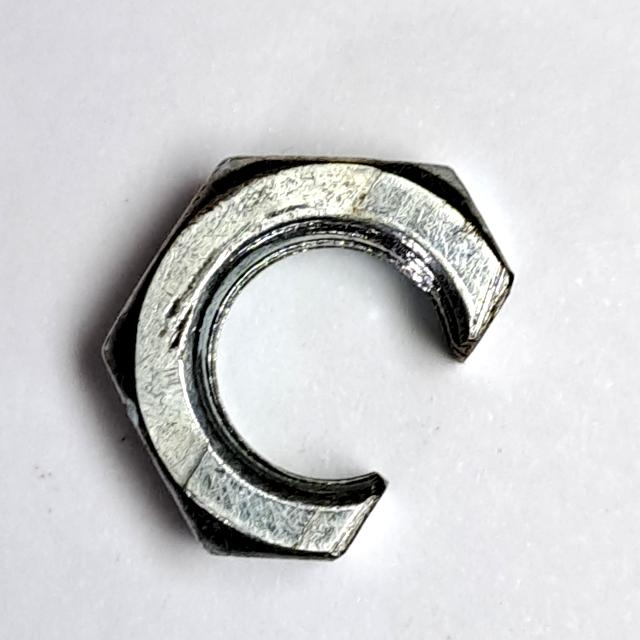Fracture: (90, 143, 543, 573)
